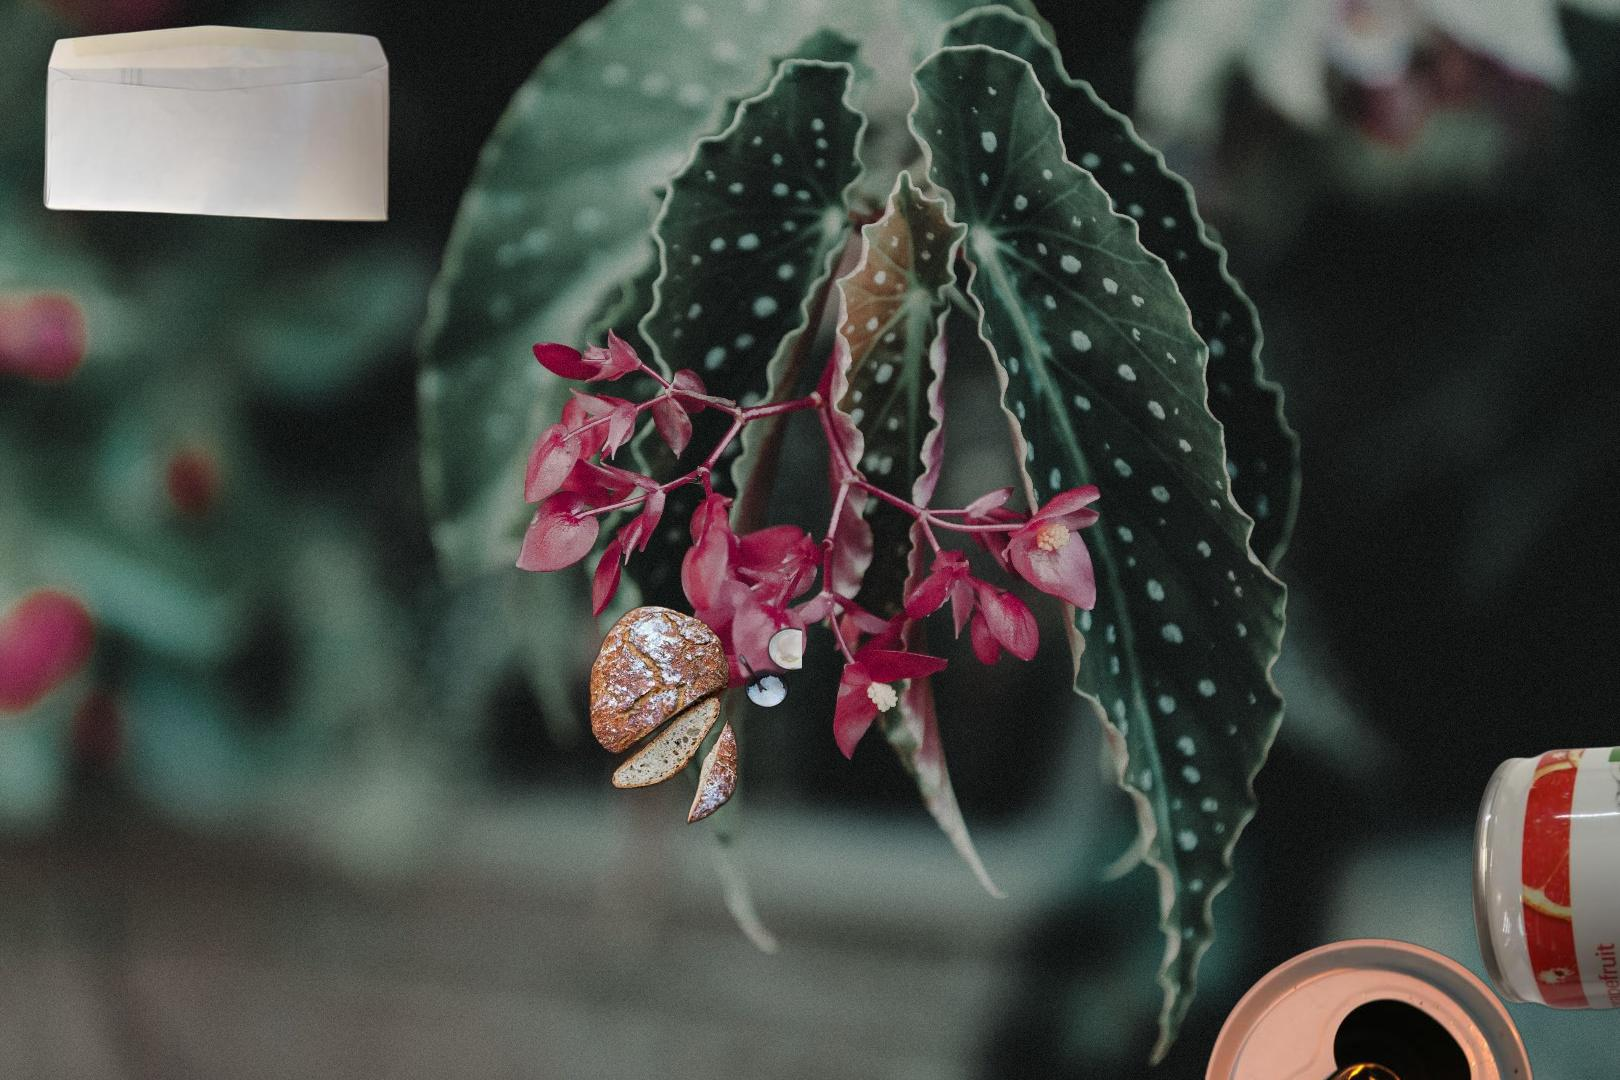biological: (585, 603, 802, 827)
metal-cans: (1198, 935, 1540, 1080), (1467, 729, 1620, 1029)
paper: (39, 22, 395, 225)
